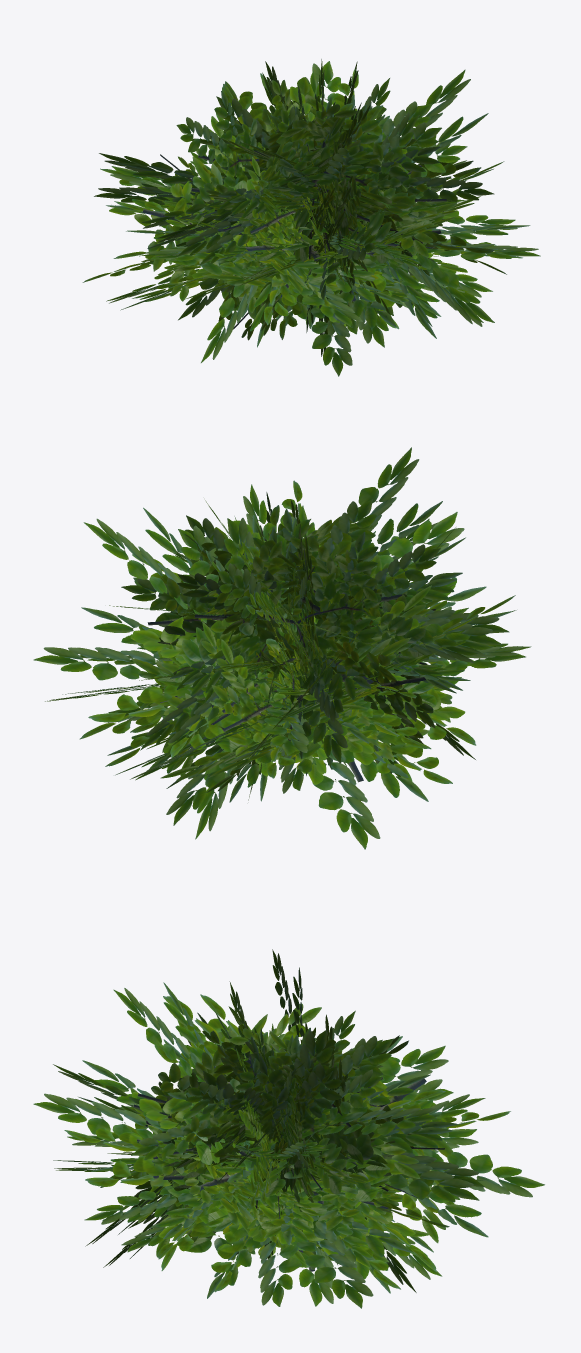
File: bush.fbx
The picture shows the model from 3 angles, top to bottom: view 1: azimuth 30°, elevation 25°; view 2: azimuth 150°, elevation 25°; view 3: azimuth 270°, elevation 25°; orthographic projection. The views are drawn at different scales.
Visible parts, largest first — view 1: Plane.004; view 2: Plane.004; view 3: Plane.004.
Part boxes in pixels (left/top/right/bottom): Plane.004: left=82, top=59, right=540, bottom=376; Plane.004: left=33, top=447, right=531, bottom=849; Plane.004: left=33, top=949, right=544, bottom=1308.
Bounding box in the file's own units: 4.39 × 2.83 × 4.41.
